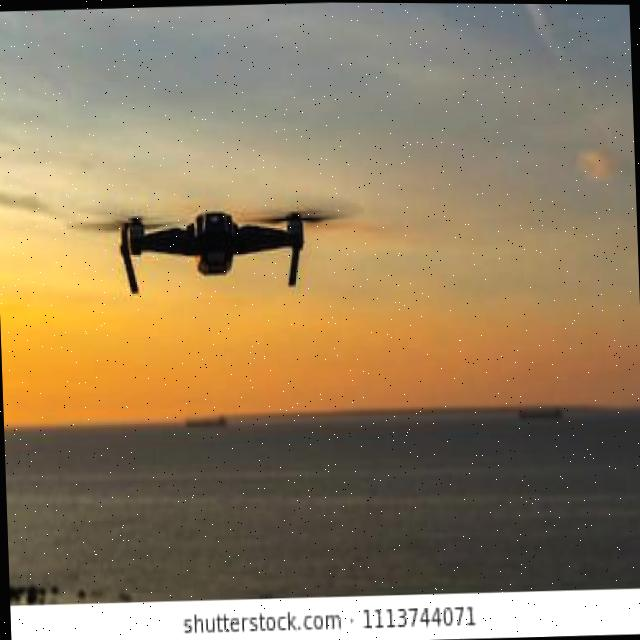drone: (33, 122, 394, 371)
